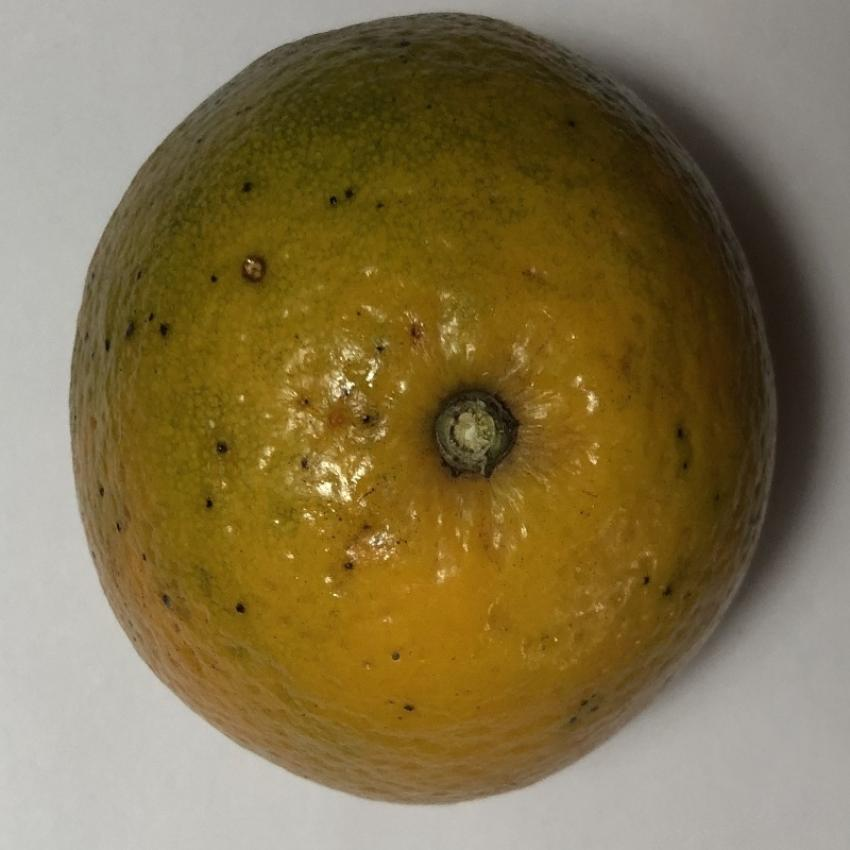Mal estado: (53, 0, 806, 823)
